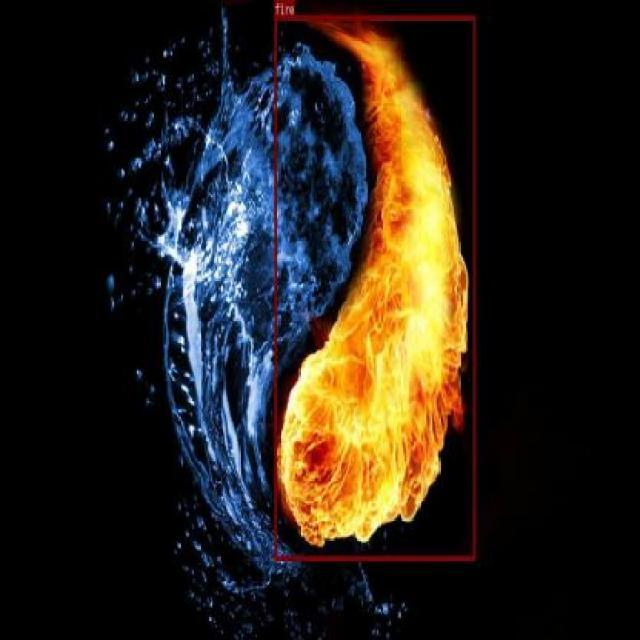Fire: (274, 14, 476, 560)
